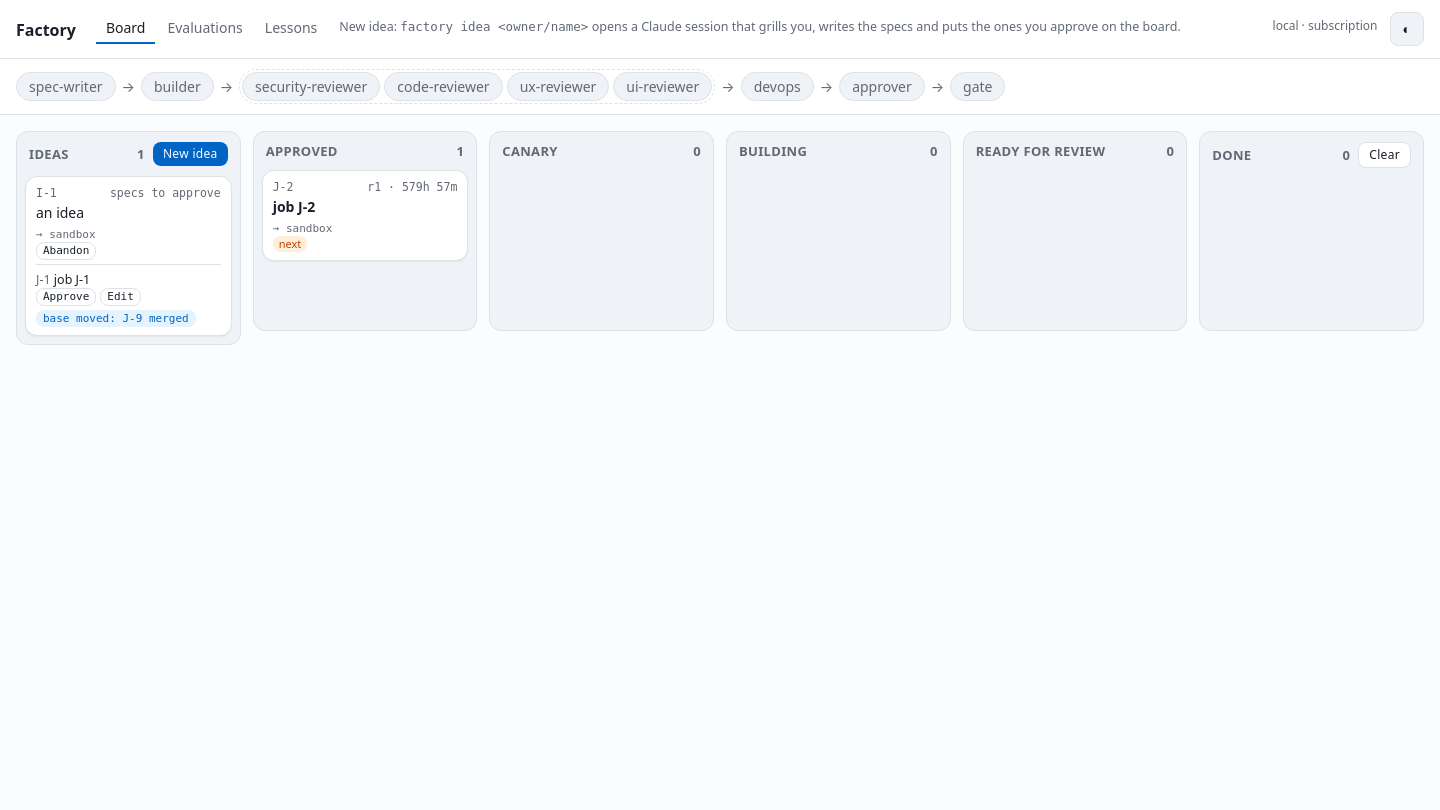
Test: specs in backlog › the board has no Backlog column, and an idea card lists its backlog specs with Approve and Edit
Check: the element showing "J-1 job J-1 Approve Edit base moved: J-9 merged" is shown, box [36, 271, 221, 327]
Check: the text "base moved: J-9 merged" is shown, box [36, 310, 196, 327]
Click the button "Approve" at (66, 297), box [36, 288, 96, 306]
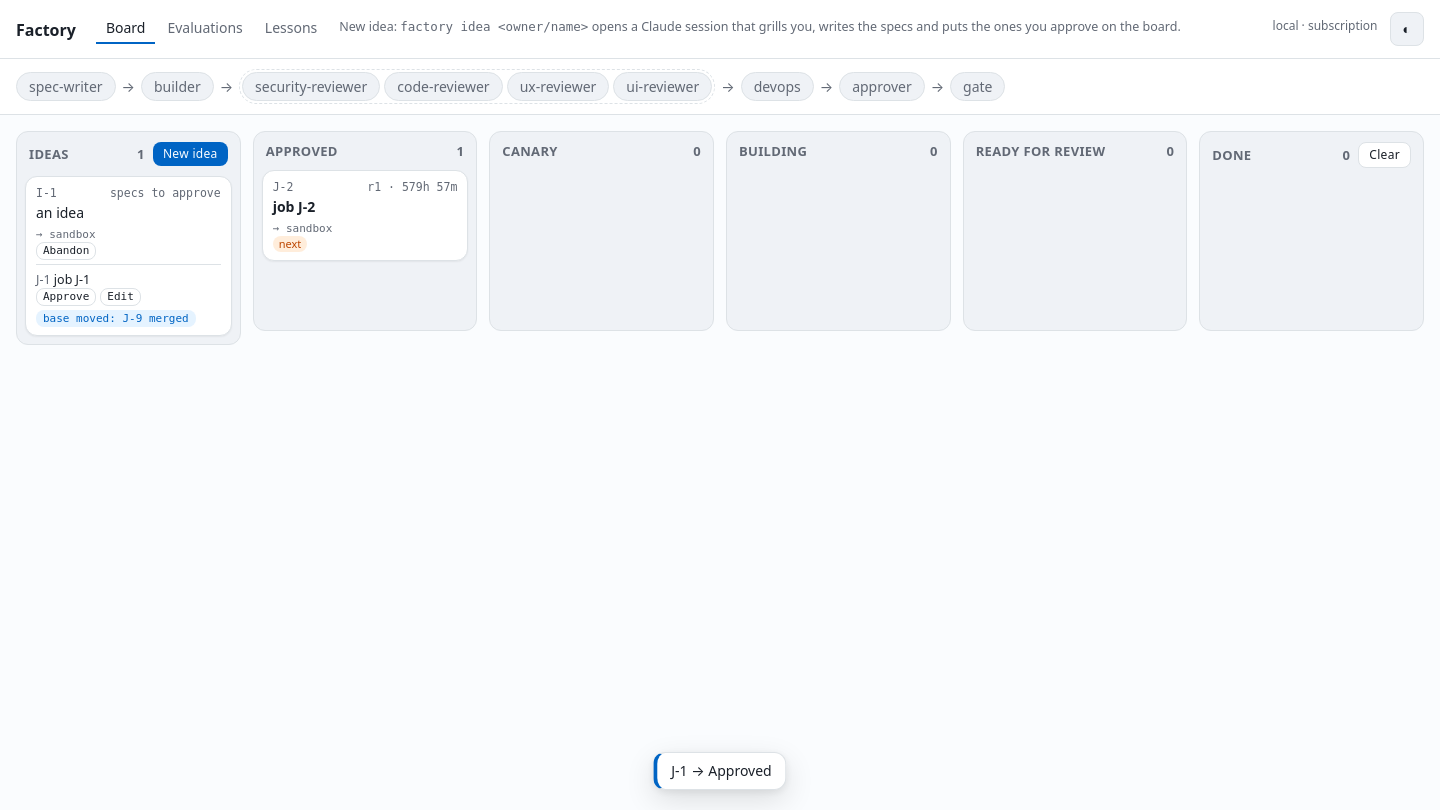
Click the button "Edit" at (121, 297), box [100, 288, 141, 306]
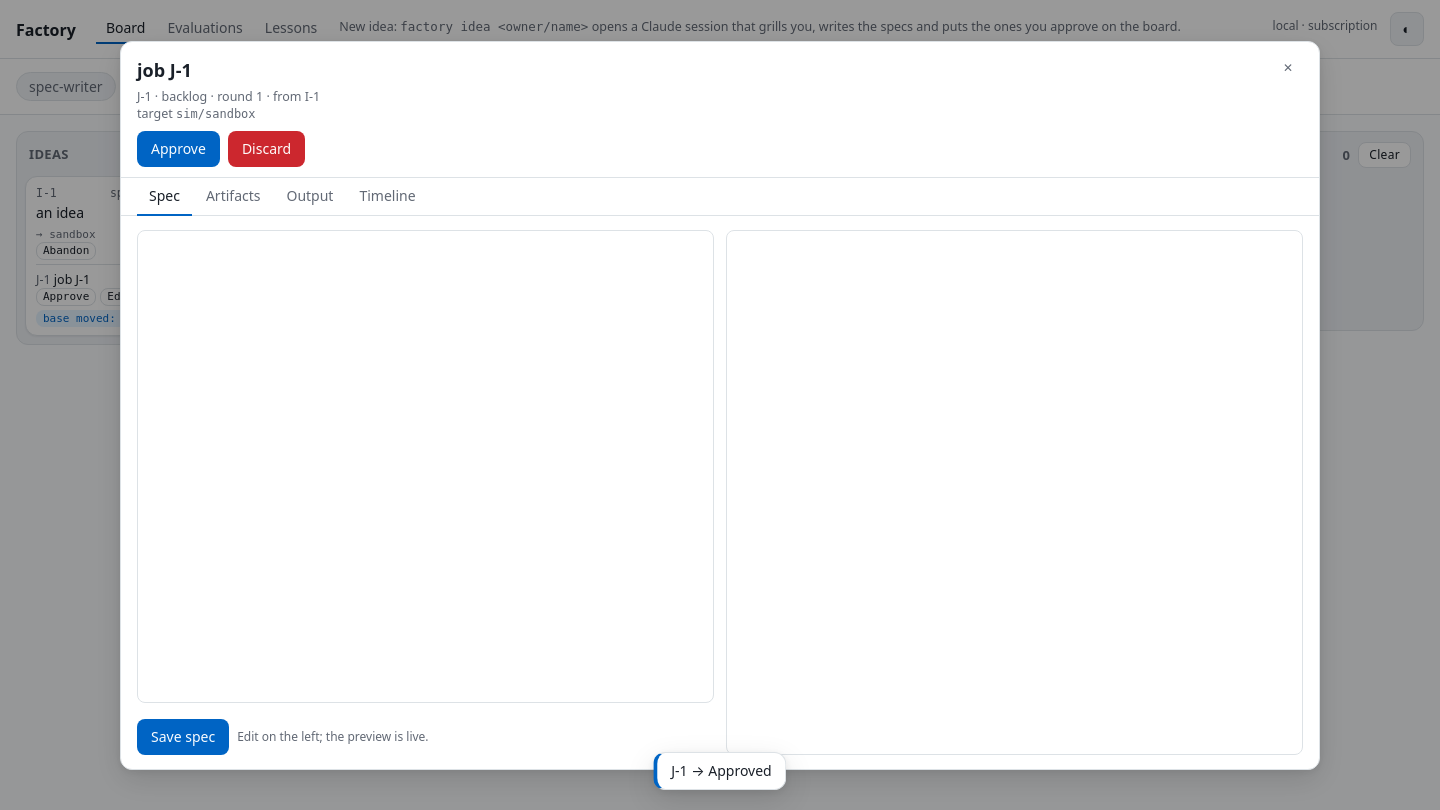
Check: the text box with id "spec-editor" is shown, box [137, 230, 714, 702]
